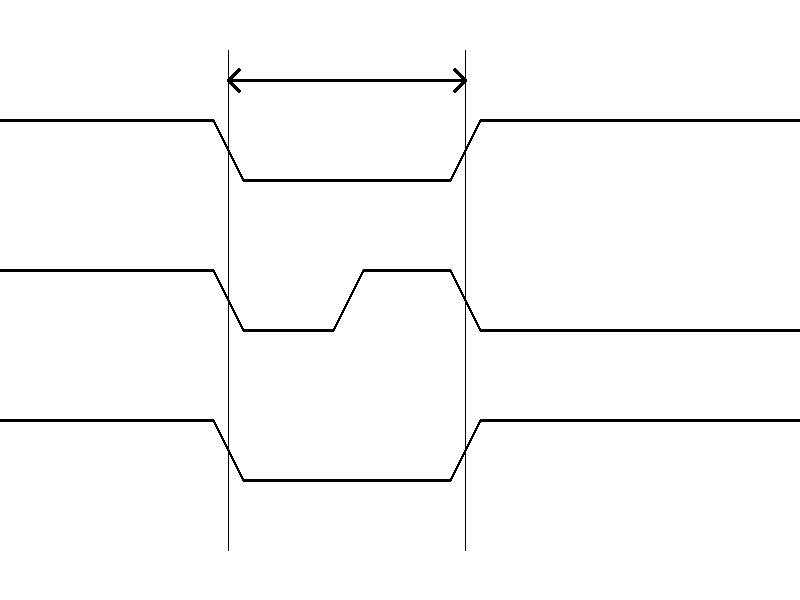double_arrow: (228, 65, 465, 95)
